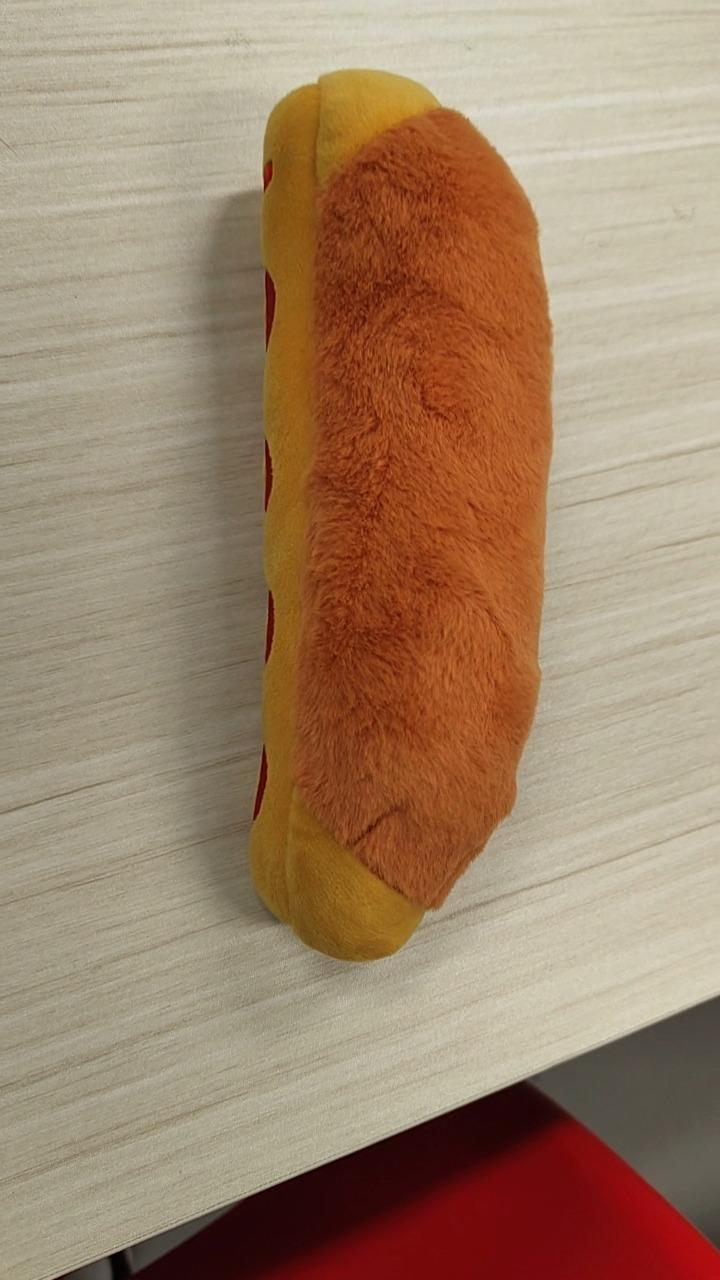hotdog: (247, 66, 554, 962)
